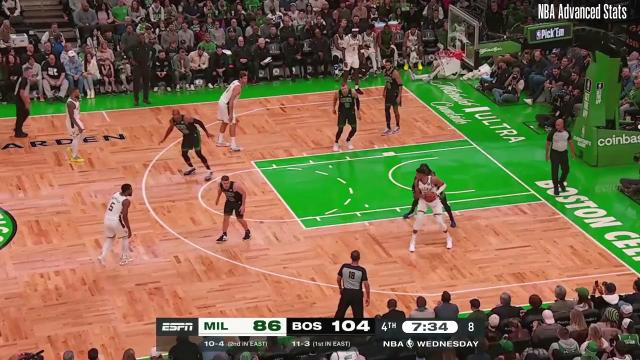3_dx: (626, 264, 640, 276)
3_sx: (407, 87, 415, 97)
free_adx: (300, 223, 312, 233)
free_asx: (247, 158, 257, 166)
free_bdx: (538, 195, 548, 206)
free_bsx: (460, 134, 472, 142)
mid_sx: (99, 106, 108, 115)
referee: (330, 250, 370, 318), (546, 118, 576, 194), (13, 67, 35, 141)
team: (410, 170, 452, 252), (98, 182, 134, 266), (217, 72, 247, 152), (342, 26, 366, 93), (66, 88, 86, 162)
team1: (160, 110, 216, 182), (403, 164, 459, 226), (214, 172, 252, 244), (378, 58, 404, 138), (332, 84, 362, 150)
timer: (409, 318, 451, 334)
